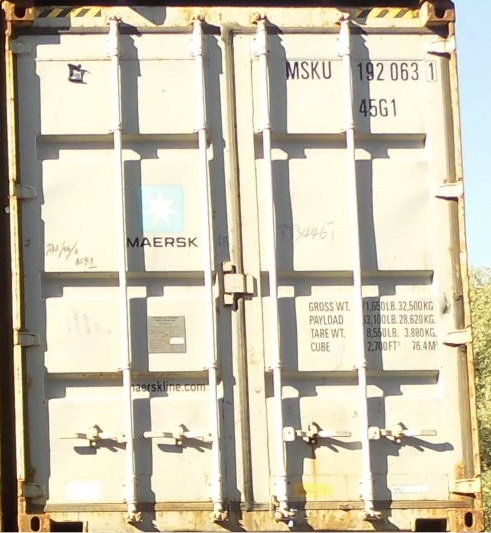container_door: (3, 10, 480, 530)
